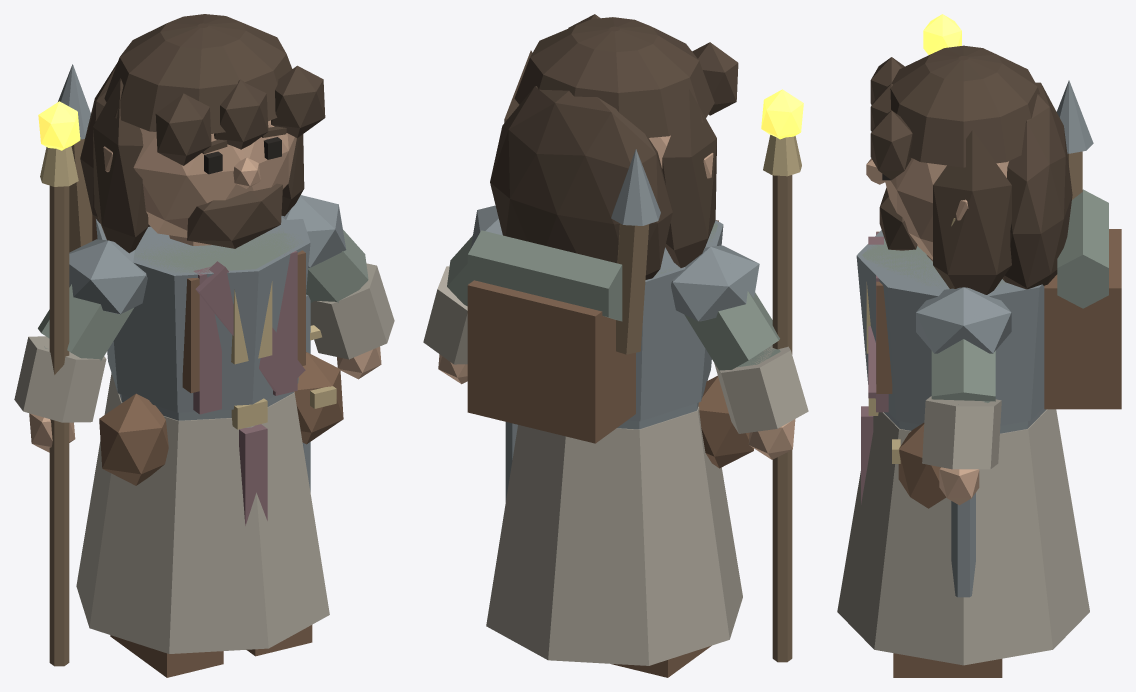
Rendered from npc_parts.glb.
3 renders of one model, left to right at view 1: azimuth 30°, elevation 25°; view 2: azimuth 150°, elevation 25°; view 3: azimuth 270°, elevation 25°, orthographic. The views are drawn at different scales.
Visible parts, largest first — view 1: NPC_SKIRT_00_Priest, NPC_HAIR_00_Short, NPC_TORSO_01_Armor, NPC_HEAD_00_Male, NPC_ACCESSORY_HAND_00_PriestStaff, NPC_HAIR_01_Long, NPC_ACCESSORY_WAIST_00_MerchantPouches, NPC_ACCESSORY_BACK_01_RaiderSpikes, NPC_FOREARM_R_02_Priest, NPC_FOREARM_L_02_Priest, NPC_UPPER_ARM_R_01_Armor, NPC_TORSO_02_Priest (+12 smaller); view 2: NPC_SKIRT_00_Priest, NPC_ACCESSORY_BACK_00_TravelerPack, NPC_HAIR_01_Long, NPC_HAIR_00_Short, NPC_ACCESSORY_HAND_00_PriestStaff, NPC_TORSO_01_Armor, NPC_ACCESSORY_BACK_01_RaiderSpikes, NPC_FOREARM_R_02_Priest, NPC_UPPER_ARM_R_01_Armor, NPC_UPPER_ARM_R_00_Tunic, NPC_ACCESSORY_WAIST_00_MerchantPouches, NPC_FOREARM_L_02_Priest (+6 smaller); view 3: NPC_SKIRT_00_Priest, NPC_HAIR_01_Long, NPC_HAIR_00_Short, NPC_ACCESSORY_BACK_00_TravelerPack, NPC_TORSO_01_Armor, NPC_FOREARM_L_02_Priest, NPC_UPPER_ARM_L_01_Armor, NPC_HEAD_00_Male, NPC_UPPER_ARM_L_00_Tunic, NPC_ACCESSORY_BACK_01_RaiderSpikes, NPC_ACCESSORY_WAIST_00_MerchantPouches, NPC_ACCESSORY_WAIST_01_KnightSword (+5 smaller).
Part boxes in pixels (x1,y1,x2,y2): NPC_SKIRT_00_Priest: (76, 373, 329, 653); NPC_HAIR_00_Short: (104, 14, 325, 165); NPC_TORSO_01_Armor: (96, 217, 310, 412); NPC_HEAD_00_Male: (103, 120, 296, 248); NPC_ACCESSORY_HAND_00_PriestStaff: (38, 101, 80, 666); NPC_HAIR_01_Long: (80, 62, 304, 253); NPC_ACCESSORY_WAIST_00_MerchantPouches: (99, 352, 343, 485); NPC_ACCESSORY_BACK_01_RaiderSpikes: (58, 64, 305, 394); NPC_FOREARM_R_02_Priest: (14, 336, 106, 422); NPC_FOREARM_L_02_Priest: (310, 263, 394, 359); NPC_UPPER_ARM_R_01_Armor: (69, 239, 147, 314); NPC_TORSO_02_Priest: (193, 251, 297, 414); NPC_SKIRT_00_Priest: (486, 406, 742, 665); NPC_ACCESSORY_BACK_00_TravelerPack: (467, 220, 718, 443); NPC_HAIR_01_Long: (490, 50, 716, 279); NPC_HAIR_00_Short: (514, 14, 738, 137); NPC_ACCESSORY_HAND_00_PriestStaff: (761, 89, 803, 662); NPC_TORSO_01_Armor: (627, 220, 723, 421); NPC_ACCESSORY_BACK_01_RaiderSpikes: (611, 149, 660, 354); NPC_FOREARM_R_02_Priest: (714, 345, 808, 433); NPC_UPPER_ARM_R_01_Armor: (671, 245, 759, 321); NPC_UPPER_ARM_R_00_Tunic: (684, 291, 779, 370); NPC_ACCESSORY_WAIST_00_MerchantPouches: (698, 375, 753, 468); NPC_FOREARM_L_02_Priest: (423, 266, 467, 364); NPC_SKIRT_00_Priest: (837, 406, 1089, 665); NPC_HAIR_01_Long: (933, 82, 1072, 294); NPC_HAIR_00_Short: (870, 45, 1039, 180); NPC_ACCESSORY_BACK_00_TravelerPack: (876, 189, 1121, 409); NPC_TORSO_01_Armor: (856, 230, 1044, 425); NPC_FOREARM_L_02_Priest: (922, 396, 1001, 469); NPC_UPPER_ARM_L_01_Armor: (916, 287, 1011, 353); NPC_HEAD_00_Male: (866, 158, 1008, 259); NPC_UPPER_ARM_L_00_Tunic: (931, 339, 995, 401); NPC_ACCESSORY_BACK_01_RaiderSpikes: (868, 80, 1093, 398); NPC_ACCESSORY_WAIST_00_MerchantPouches: (892, 423, 946, 508); NPC_ACCESSORY_WAIST_01_KnightSword: (951, 493, 975, 597).
Size of the model in its own units: 1.18 by 1.84 by 0.81.
